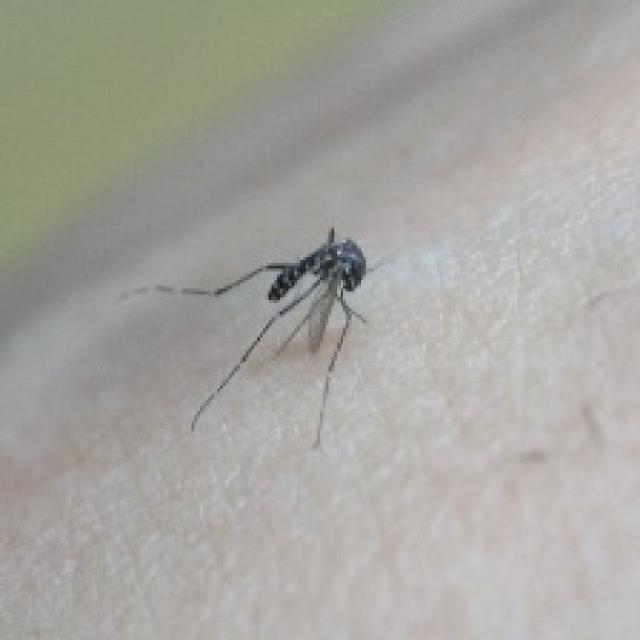aedes: (117, 223, 380, 448)
